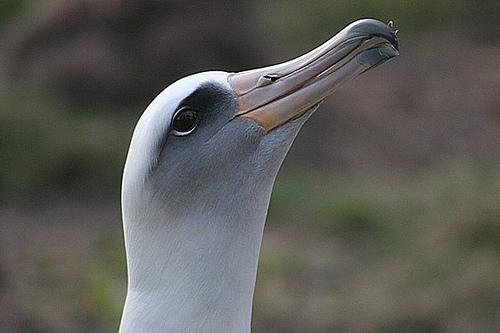002.Laysan_Albatross: (101, 17, 400, 333)
